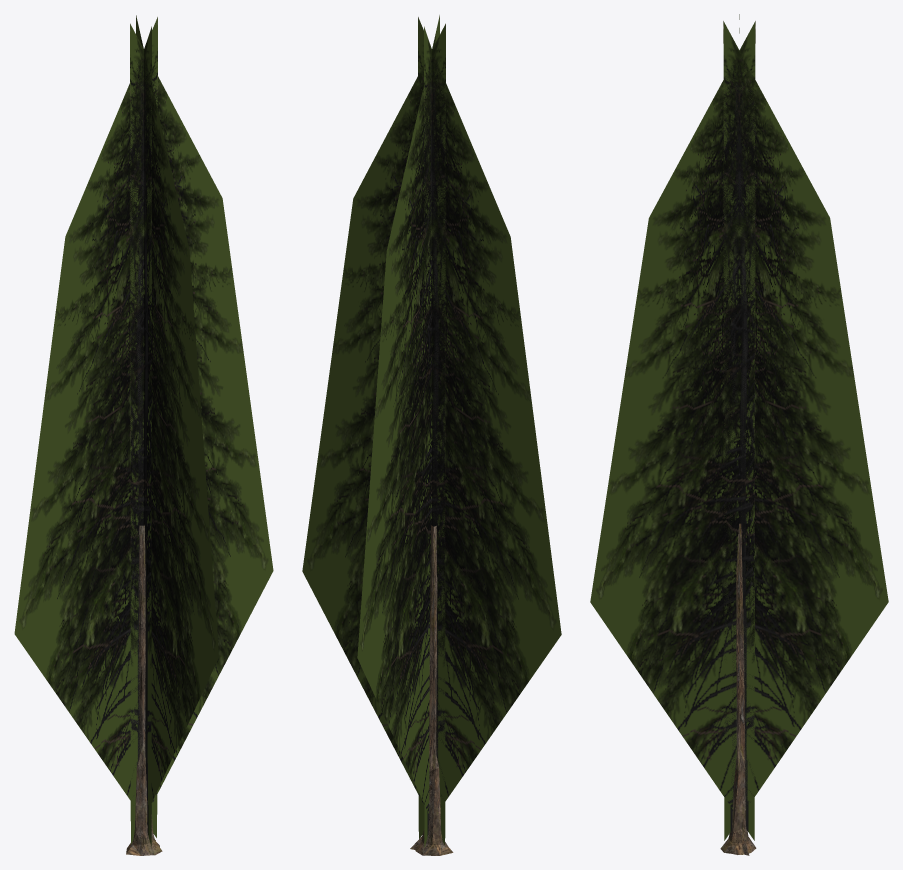
The model's file is spruce_3_lod.dae.
The picture shows the model from 3 angles, left to right: view 1: azimuth 30°, elevation 25°; view 2: azimuth 150°, elevation 25°; view 3: azimuth 270°, elevation 25°; orthographic projection.
Visible parts, largest first — view 1: Mesh_Object; view 2: Mesh_Object; view 3: Mesh_Object.
Boxes of the visible parts, x1=… form: Mesh_Object: x1=14, y1=15, x2=273, y2=855; Mesh_Object: x1=302, y1=15, x2=561, y2=855; Mesh_Object: x1=590, y1=14, x2=888, y2=855.
Bounding box in the file's own units: 6.05 × 18.48 × 6.05.
